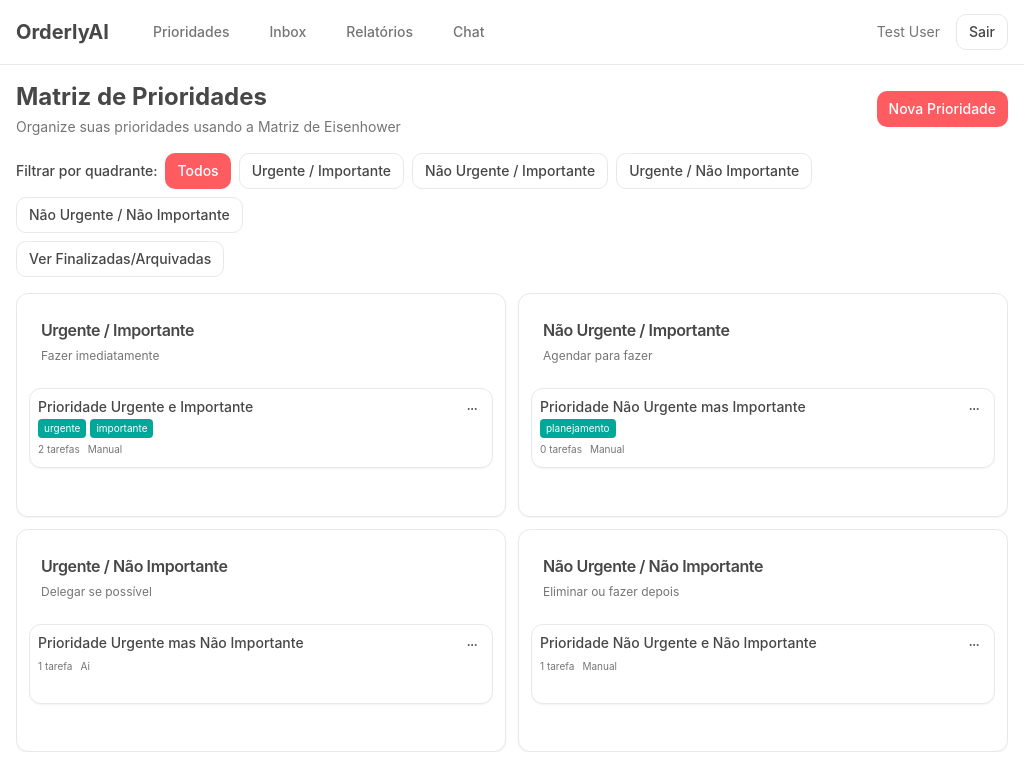
PrioritiesPage › Criação de Prioridade › deve adicionar tags ao criar prioridade
Expected: the heading "Matriz de Prioridades" is shown, [16,82,267,111]
Click the button "Nova Prioridade" at (942, 109), box [876,91,1008,127]
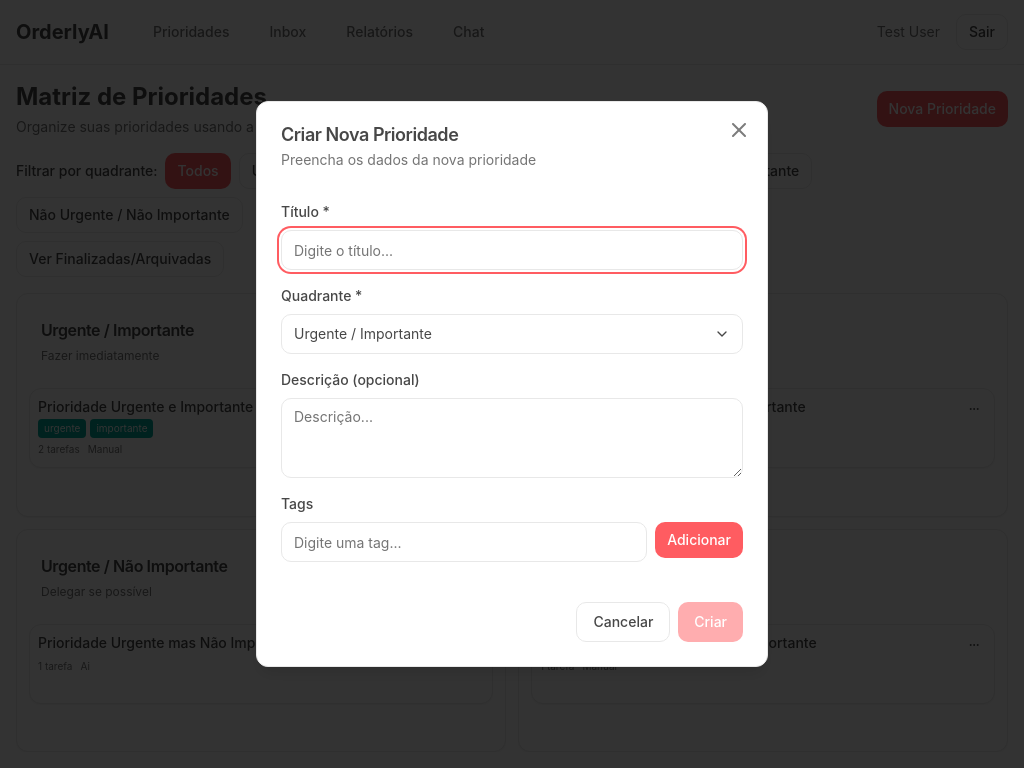
Type "Prioridade com Tags" into the field with placeholder "Digite o título..." at (512, 250), box [281,230,743,270]
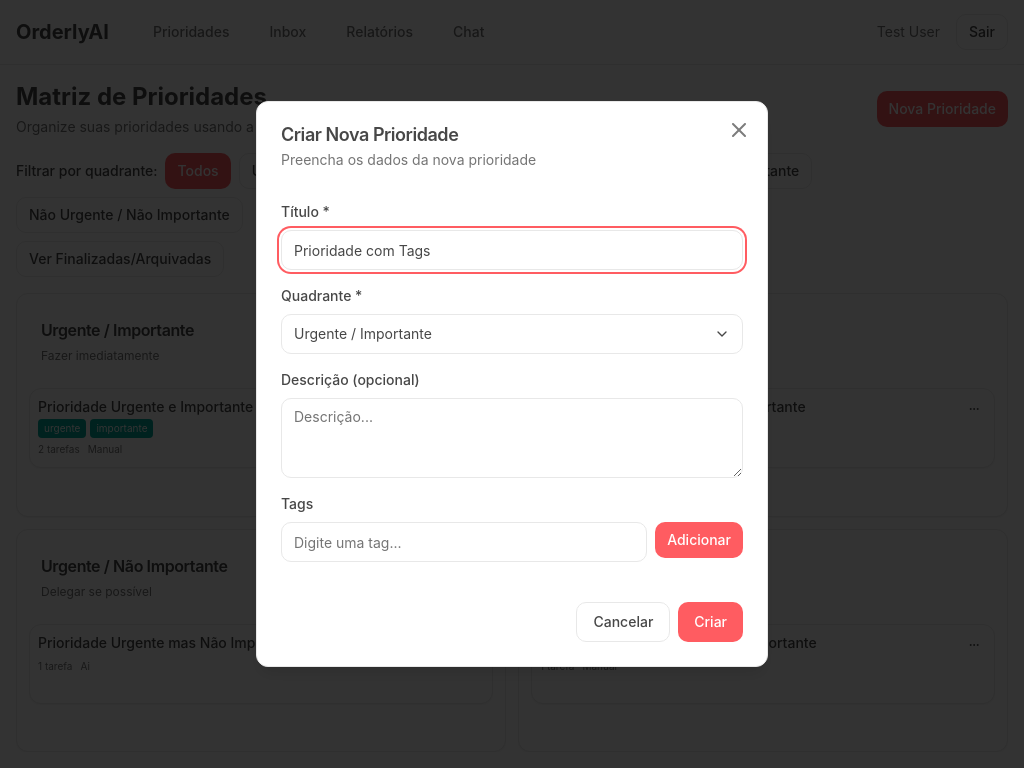
Type "teste" into the field with placeholder "Digite uma tag..." at (464, 542), box [281,522,647,562]
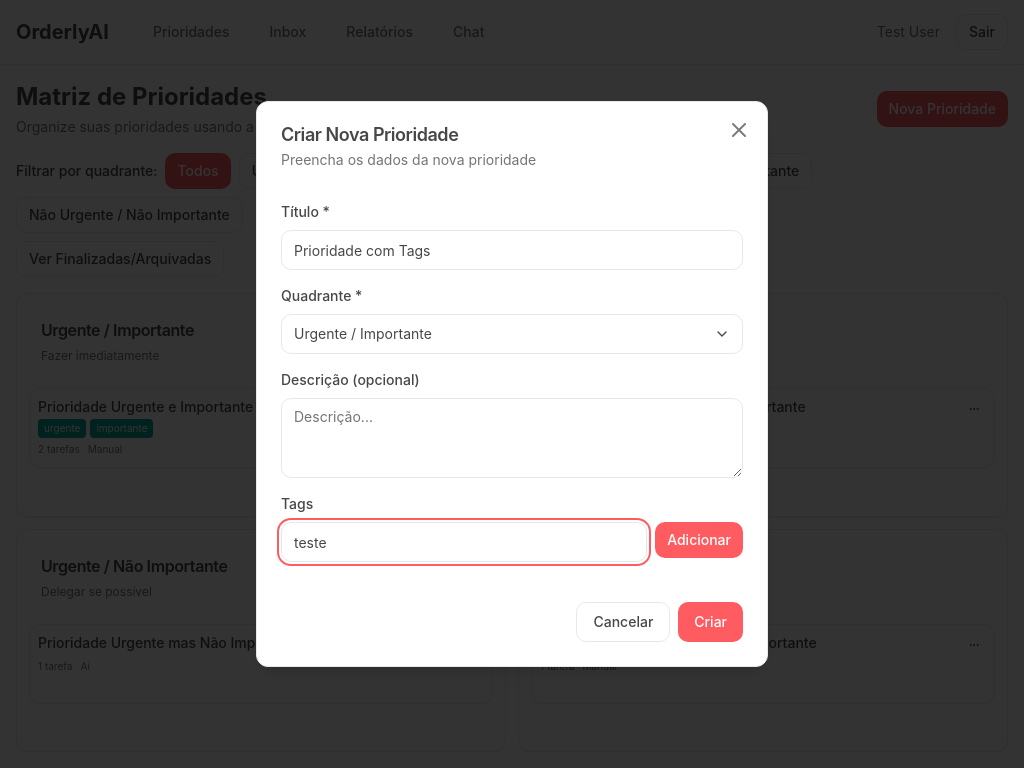
Press Enter
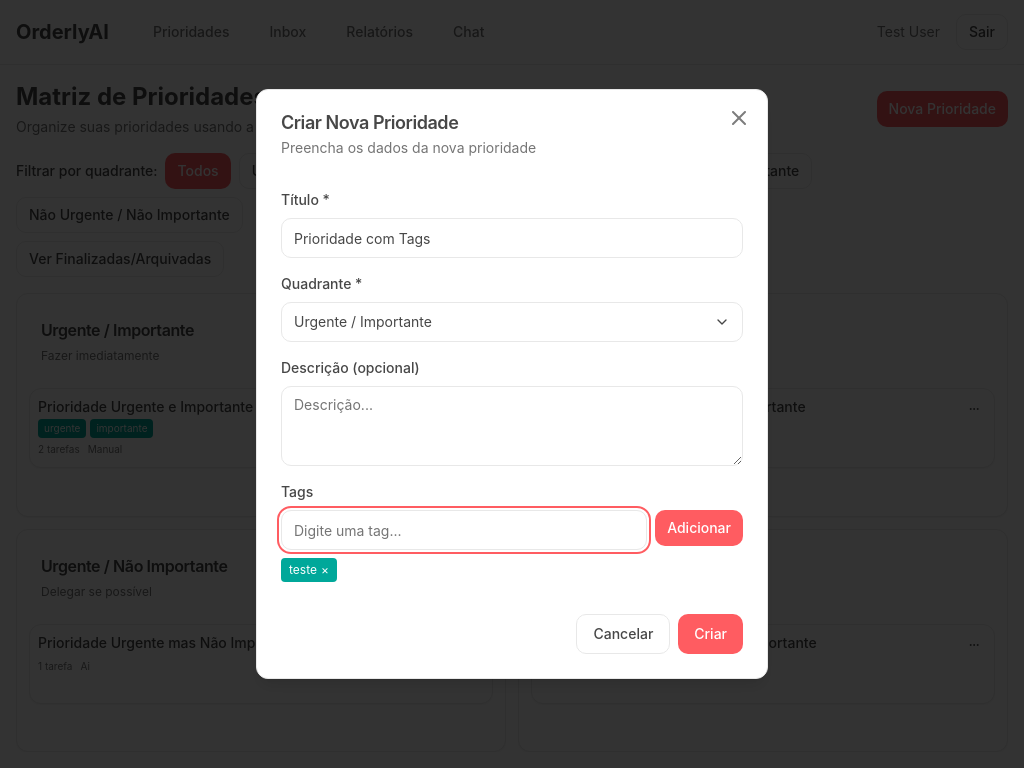
Result: the text "teste" is shown at [289,562,317,577]
Click the button "Criar" at (711, 634), box [678,614,743,654]
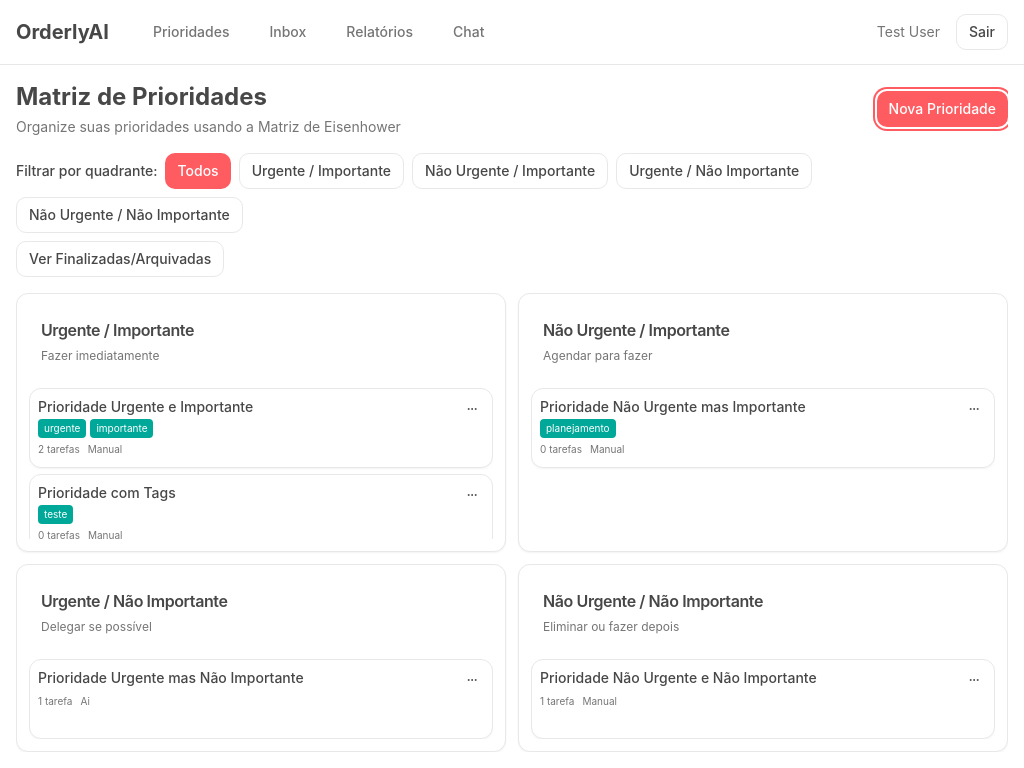
Result: the heading "Prioridade com Tags" is shown at [38,484,176,501]
